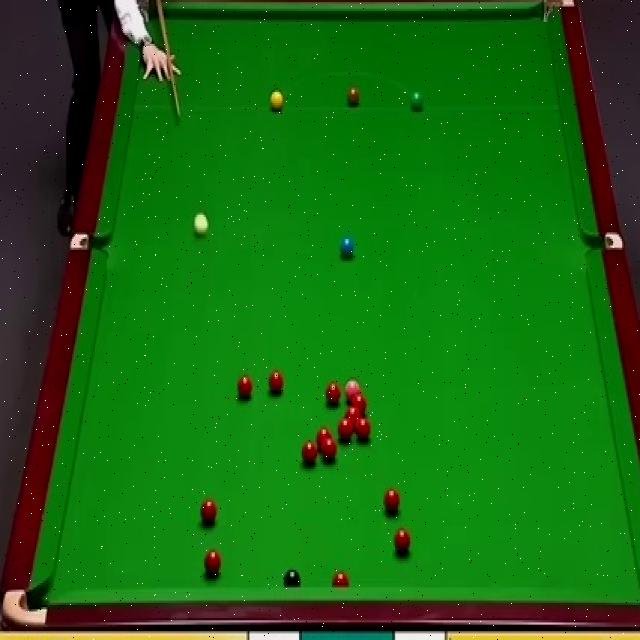black-ball: (284, 570, 302, 587)
blue-ball: (339, 238, 355, 256)
brown-ball: (347, 87, 360, 107)
green-ball: (408, 89, 424, 112)
pink-ball: (345, 379, 360, 401)
red-ball: (382, 486, 401, 514), (204, 551, 222, 577), (349, 392, 367, 418), (394, 529, 411, 555), (322, 384, 342, 406), (199, 499, 218, 522), (268, 367, 284, 393), (301, 440, 317, 466), (237, 377, 254, 399), (322, 438, 337, 460), (356, 417, 371, 439), (338, 418, 353, 439), (317, 428, 331, 449), (331, 572, 351, 586)
white-ball: (192, 210, 211, 237)
yellow-ball: (270, 90, 283, 112)
